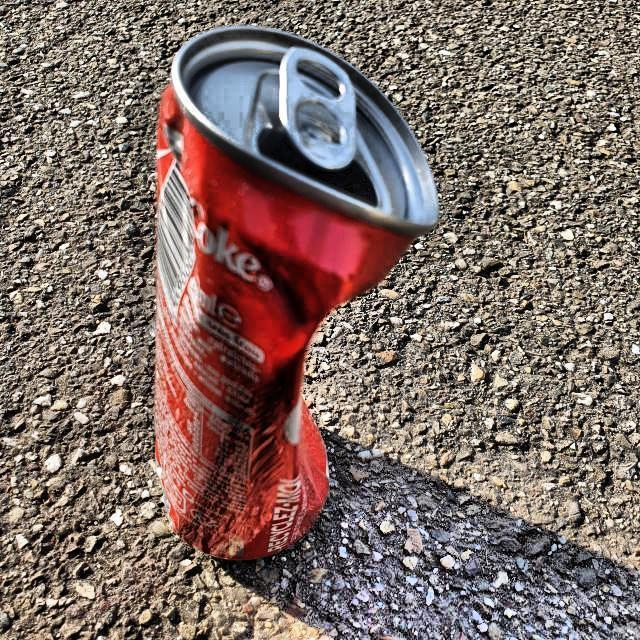metal: (153, 26, 439, 565)
